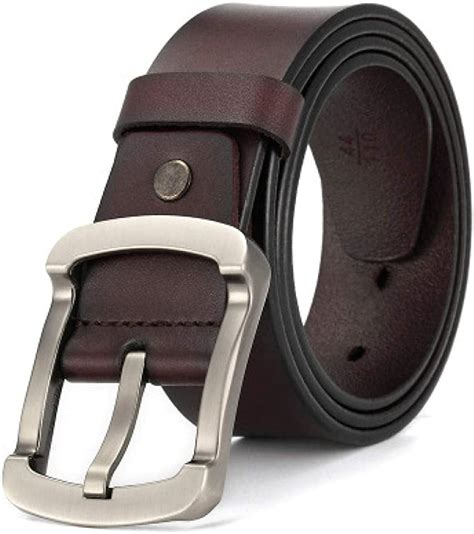cuero: (62, 4, 469, 447)
